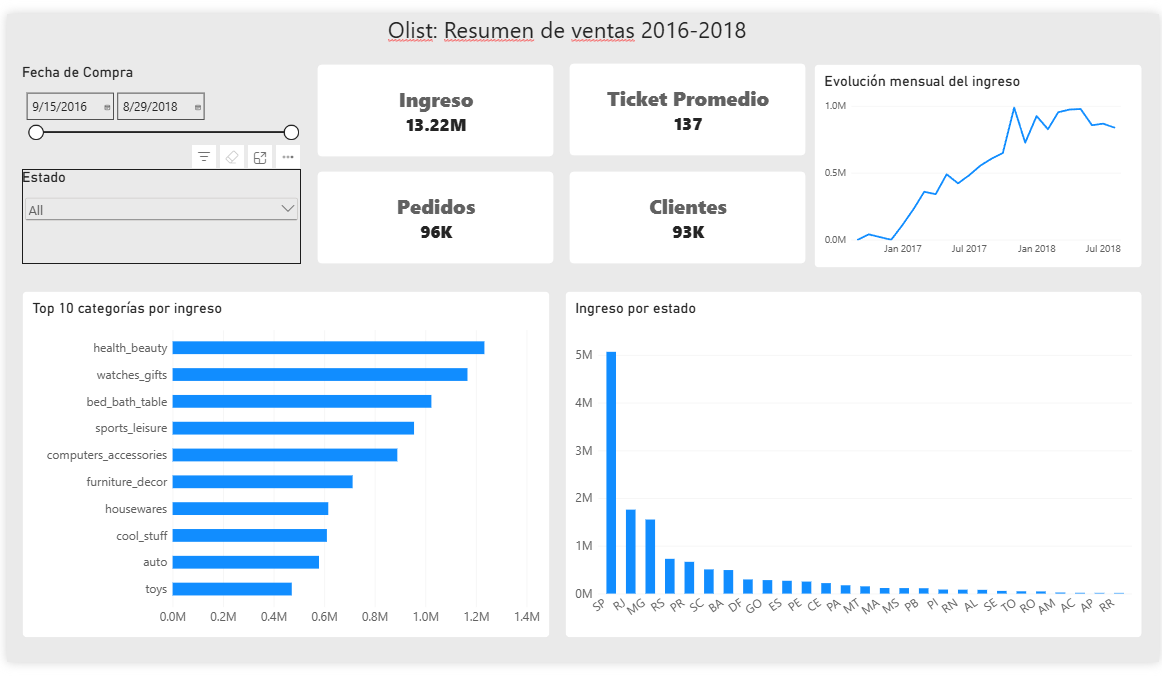

What the dashboard file says about the page in this screenshot:
{"tool":"powerbi","page":{"name":"Page 1","canvas":[1920,1080],"ordinal":0},"visuals":[{"type":"cardVisual","fields":{"Data":["v_ventas.Ingreso"]},"box":[516.7,83.3,395,155],"z":0},{"type":"cardVisual","fields":{"Data":["v_ventas.Pedidos"]},"box":[516.7,261.7,395,155],"z":1000},{"type":"cardVisual","fields":{"Data":["v_ventas.Ticket Promedio"]},"box":[936.7,81.7,395,155],"z":2000},{"type":"cardVisual","fields":{"Data":["v_ventas.Clientes"]},"box":[936.7,261.7,395,155],"z":3000},{"type":"lineChart","title":"Evolución mensual del ingreso","fields":{"Category":["v_ventas.fecha_compra.Variation.Date Hierarchy.Year","v_ventas.fecha_compra.Variation.Date Hierarchy.Month"],"Y":["v_ventas.Ingreso"]},"box":[1345,83.3,546.7,340],"z":4000},{"type":"clusteredBarChart","title":"Top 10 categorías por ingreso","fields":{"Category":["v_ventas.categoria"],"Y":["v_ventas.Ingreso"]},"box":[25,461.7,880,578.3],"z":5000},{"type":"clusteredColumnChart","title":"Ingreso por estado","fields":{"Category":["v_ventas.estado"],"Y":["v_ventas.Ingreso"]},"box":[930,461.7,961.7,578.3],"z":6000},{"type":"slicer","title":"Estado","fields":{"Values":["v_ventas.estado"]},"box":[25,258.3,465,158.3],"z":7000},{"type":"slicer","title":"Fecha de Compra","fields":{"Values":["v_ventas.fecha_compra"]},"box":[25,83.3,465,153.3],"z":8000},{"type":"textbox","box":[635,0,648.3,56.7],"z":9000}]}

Visuals, with their boxes on the page's 1920x1080 design canvas (x1, y1, x2, y2). These are canvas units, not pixel positions in the 1162x679 screenshot, which may show the page scaled, cropped or inside an application window:
cardVisual - v_ventas.Ingreso: x1=517 y1=83 x2=912 y2=238
cardVisual - v_ventas.Pedidos: x1=517 y1=262 x2=912 y2=417
cardVisual - v_ventas.Ticket Promedio: x1=937 y1=82 x2=1332 y2=237
cardVisual - v_ventas.Clientes: x1=937 y1=262 x2=1332 y2=417
"Evolución mensual del ingreso" lineChart: x1=1345 y1=83 x2=1892 y2=423
"Top 10 categorías por ingreso" clusteredBarChart: x1=25 y1=462 x2=905 y2=1040
"Ingreso por estado" clusteredColumnChart: x1=930 y1=462 x2=1892 y2=1040
"Estado" slicer: x1=25 y1=258 x2=490 y2=417
"Fecha de Compra" slicer: x1=25 y1=83 x2=490 y2=237
textbox: x1=635 y1=0 x2=1283 y2=57
